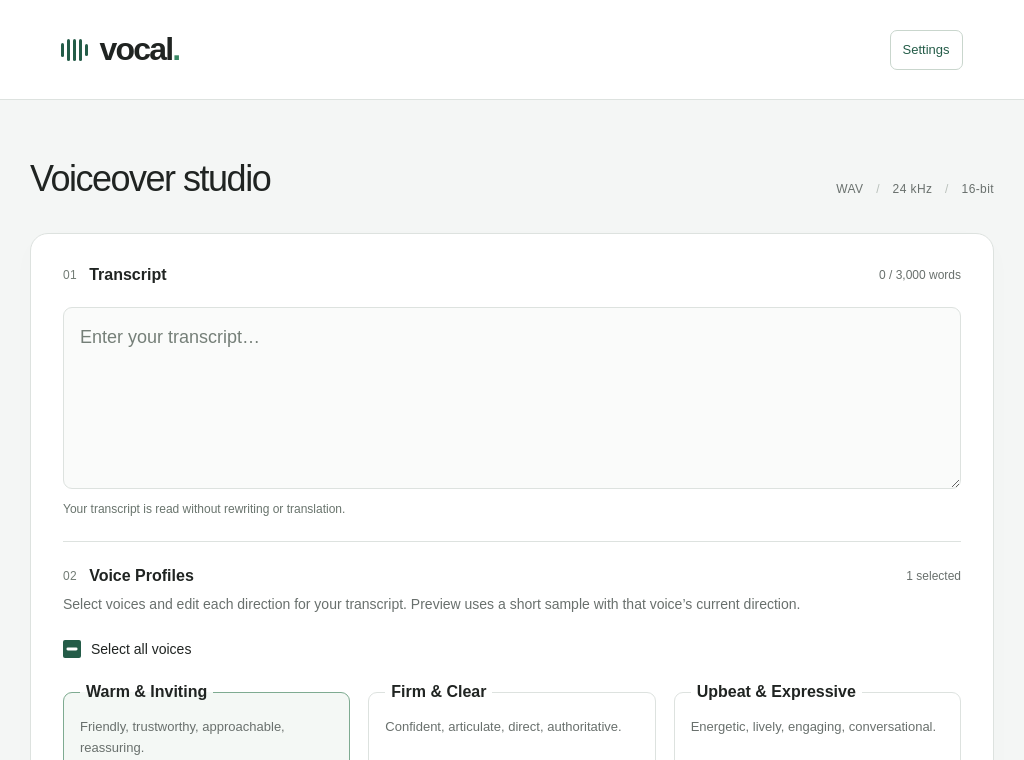
copies the full key and saves edits to the label and active value across reloads
The image size is (1024, 760).
Click the button "Settings" at (926, 50), box x1=890 y1=30 x2=963 y2=70
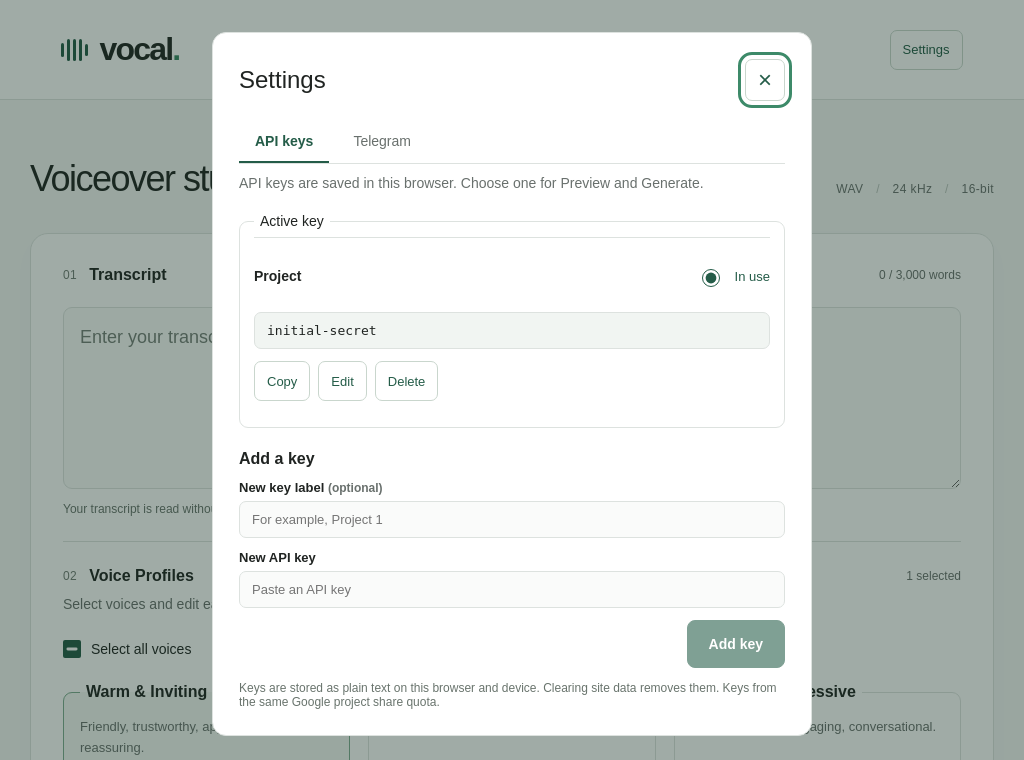
Click the button with aria-label "Copy Project" at (282, 381), box x1=254 y1=361 x2=310 y2=401
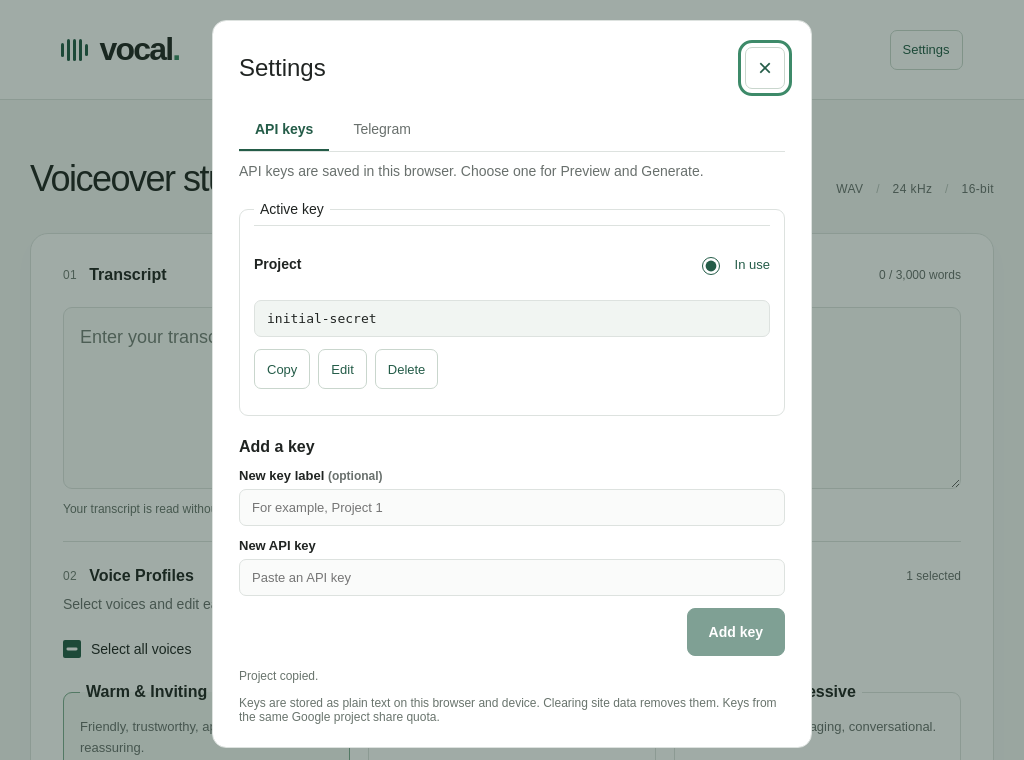
Expected: the text "Project copied." is shown, x1=239 y1=669 x2=318 y2=683
Click the button with aria-label "Edit Project" at (343, 369), box x1=318 y1=349 x2=367 y2=389
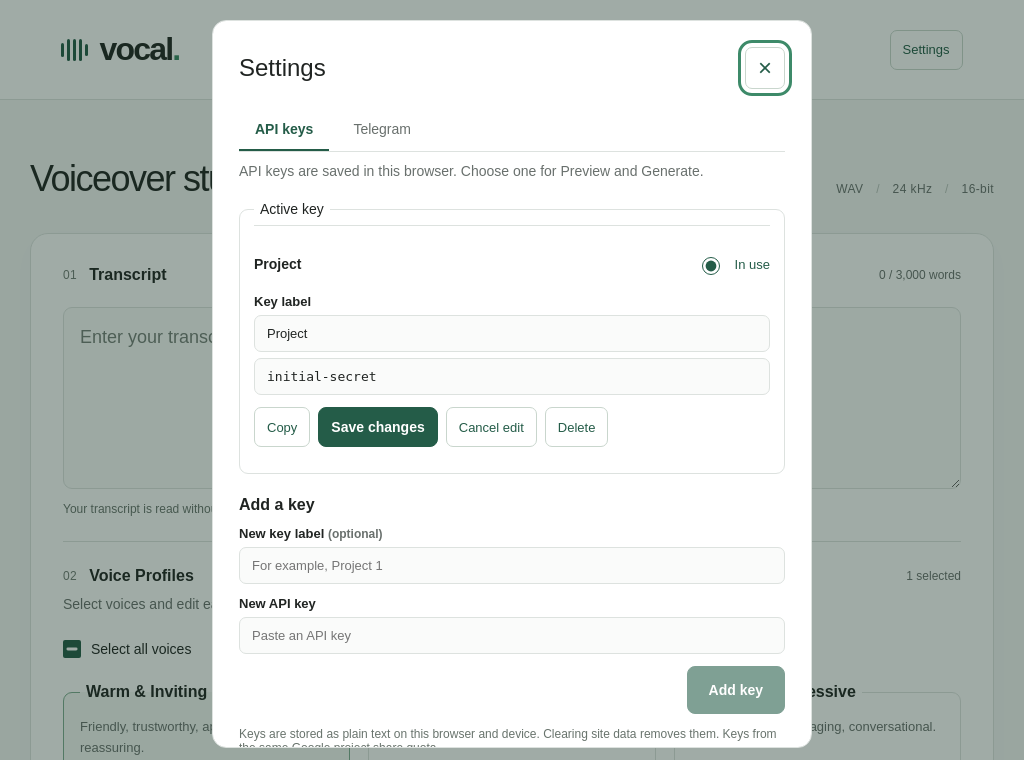
Replace the text in the field labelled "Key label" with "Renamed" at (512, 334), box x1=254 y1=315 x2=770 y2=352
Replace the text in the field named "API key for Project" with "updated-secret" at (512, 376), box x1=254 y1=358 x2=770 y2=395
Click the button "Save changes" at (378, 427), box x1=318 y1=407 x2=438 y2=447
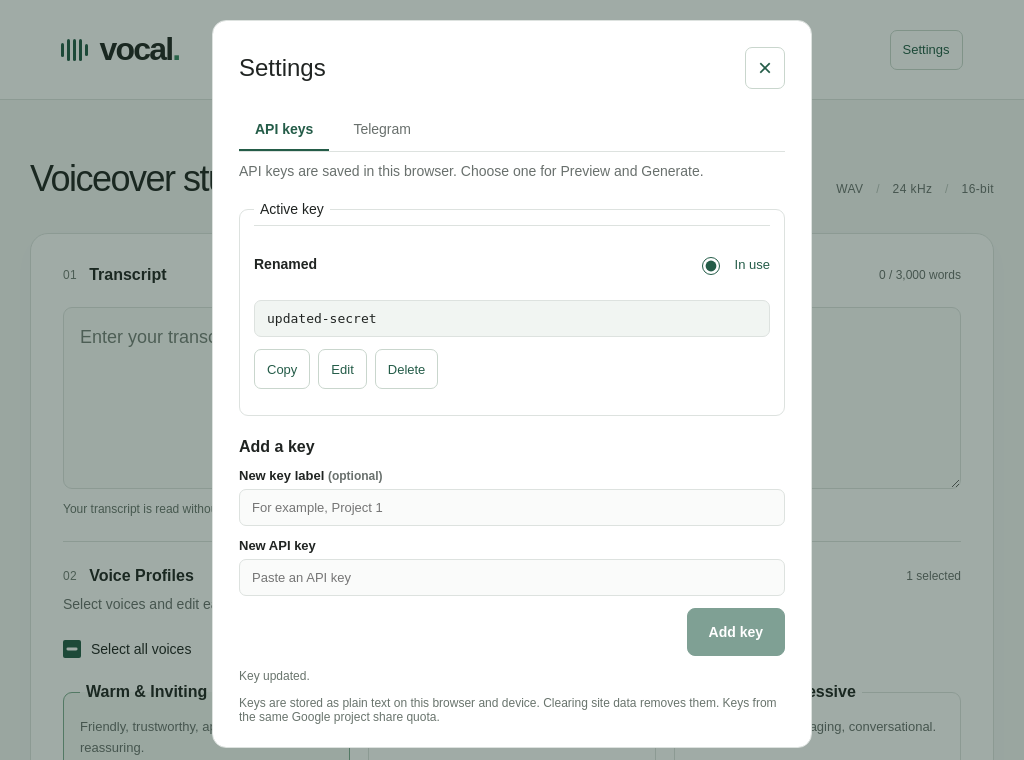
Expected: the text "Key updated." is shown, x1=239 y1=669 x2=310 y2=683
Click the button with aria-label "Copy Renamed" at (282, 369), box x1=254 y1=349 x2=310 y2=389
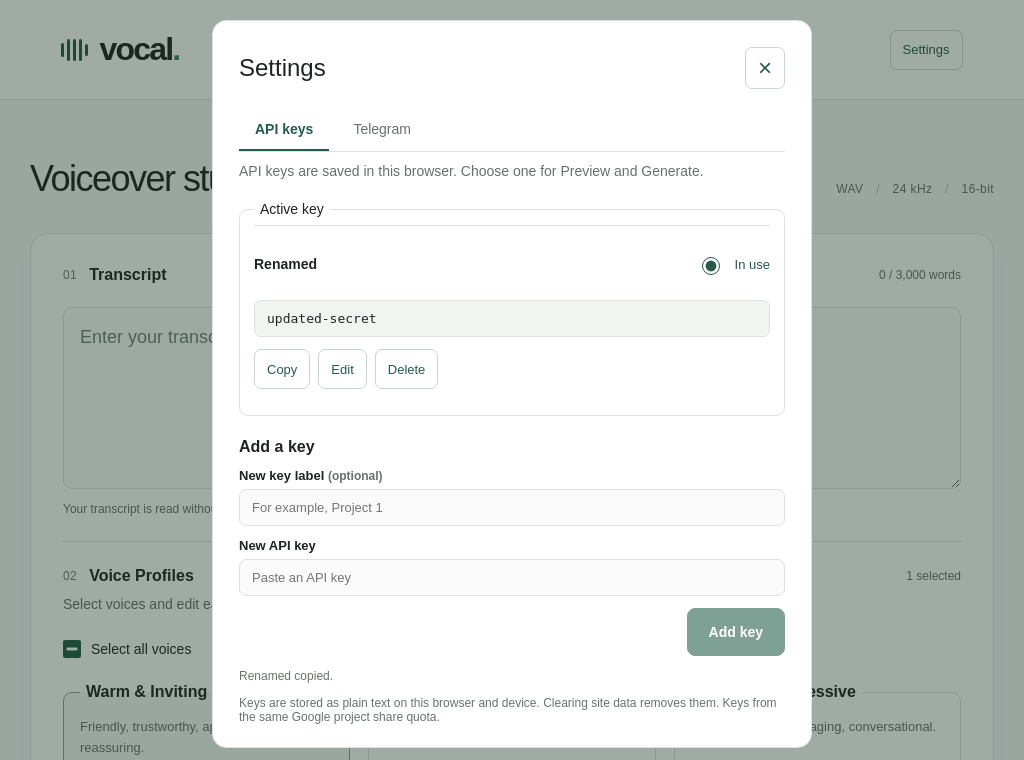
Expected: the text "Renamed copied." is shown, x1=239 y1=669 x2=333 y2=683
Click the button with aria-label "Copy Renamed" at (282, 369), box x1=254 y1=349 x2=310 y2=389
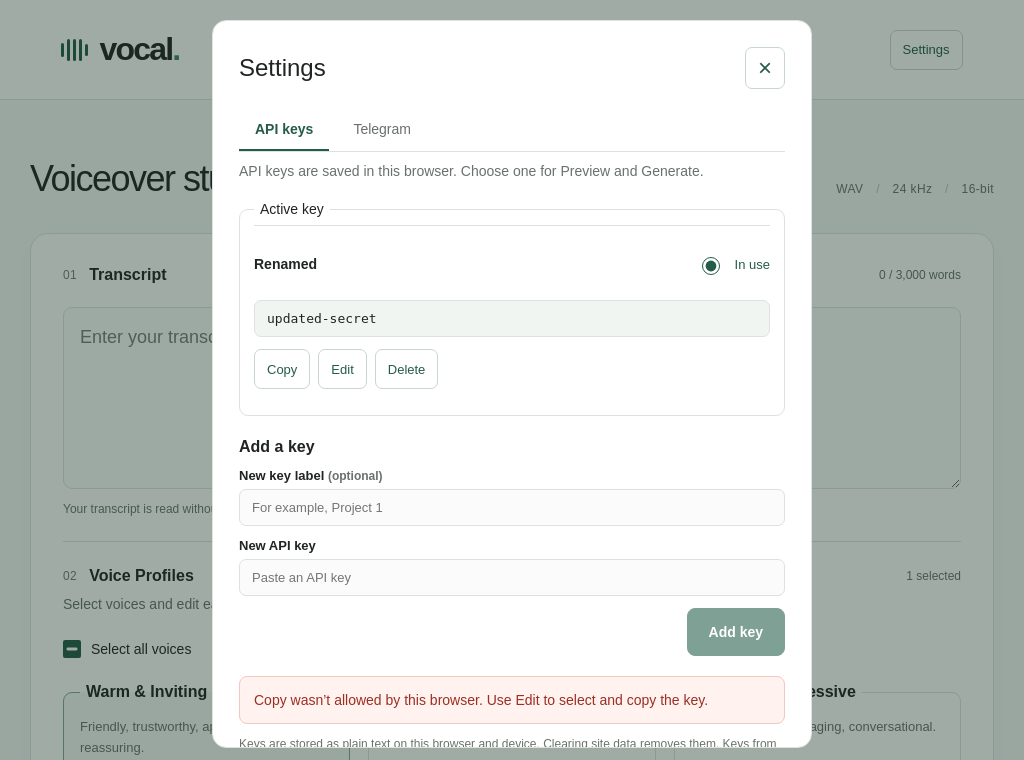
Expected: the text "Copy wasn’t allowed by this browser. Use Edit to select and copy the key." is shown, x1=239 y1=676 x2=785 y2=724
